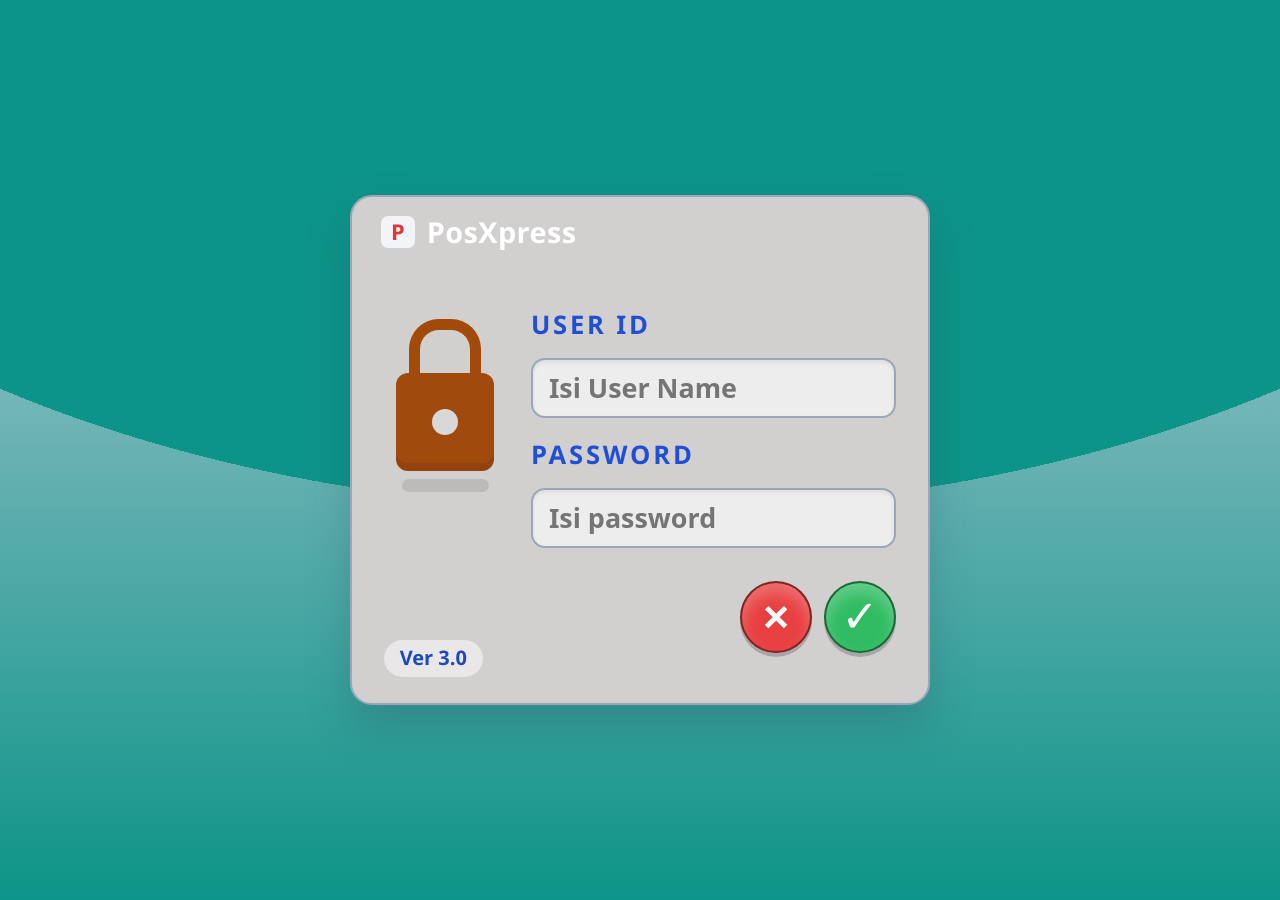
Test: App › menu lain bisa diklik saat awal loading dashboard
Type "admin" into the field labelled "USER ID" at {"x": 713, "y": 388}, box [531, 358, 896, 418]
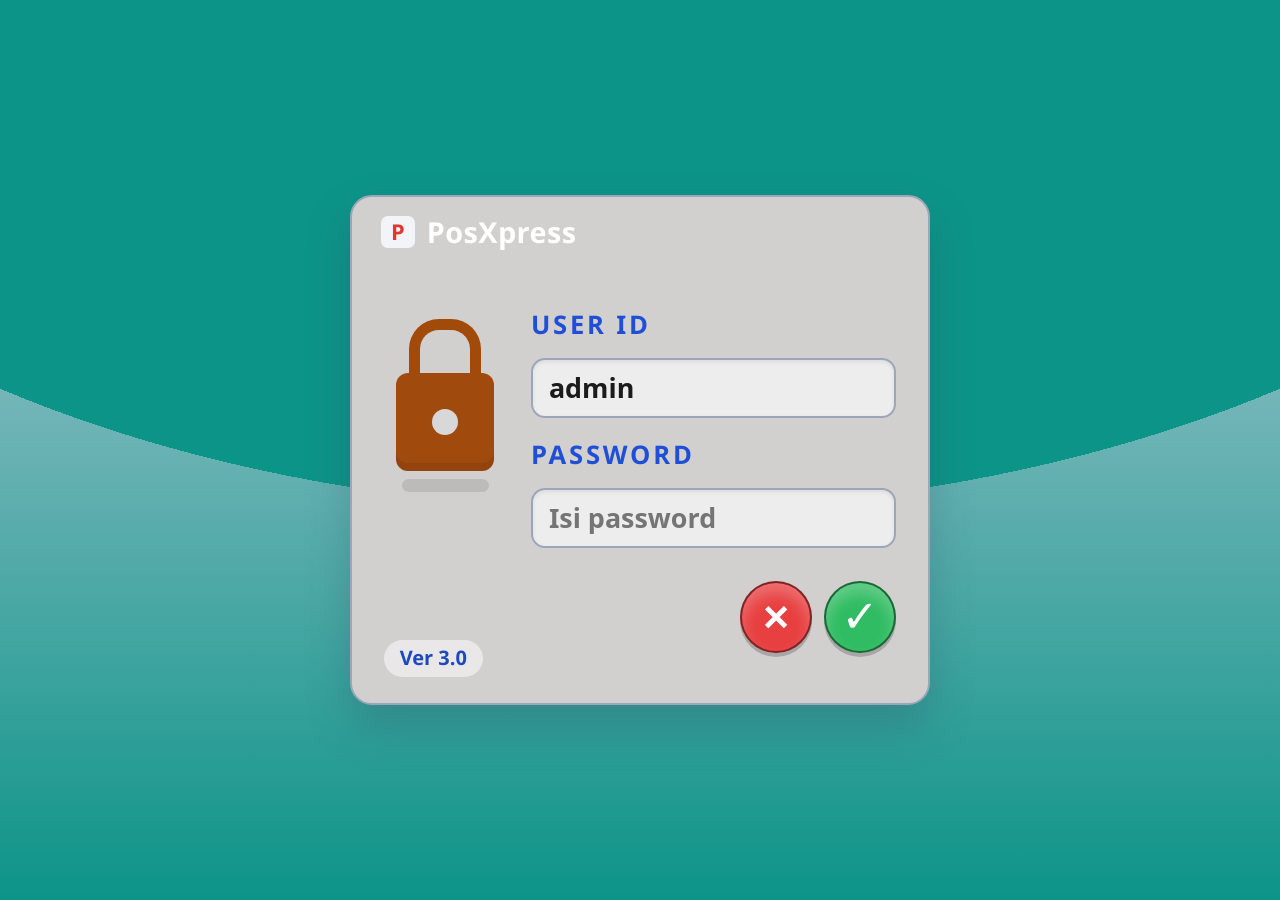
Type "123456" into the password field labelled "PASSWORD" at {"x": 713, "y": 518}, box [531, 488, 896, 548]
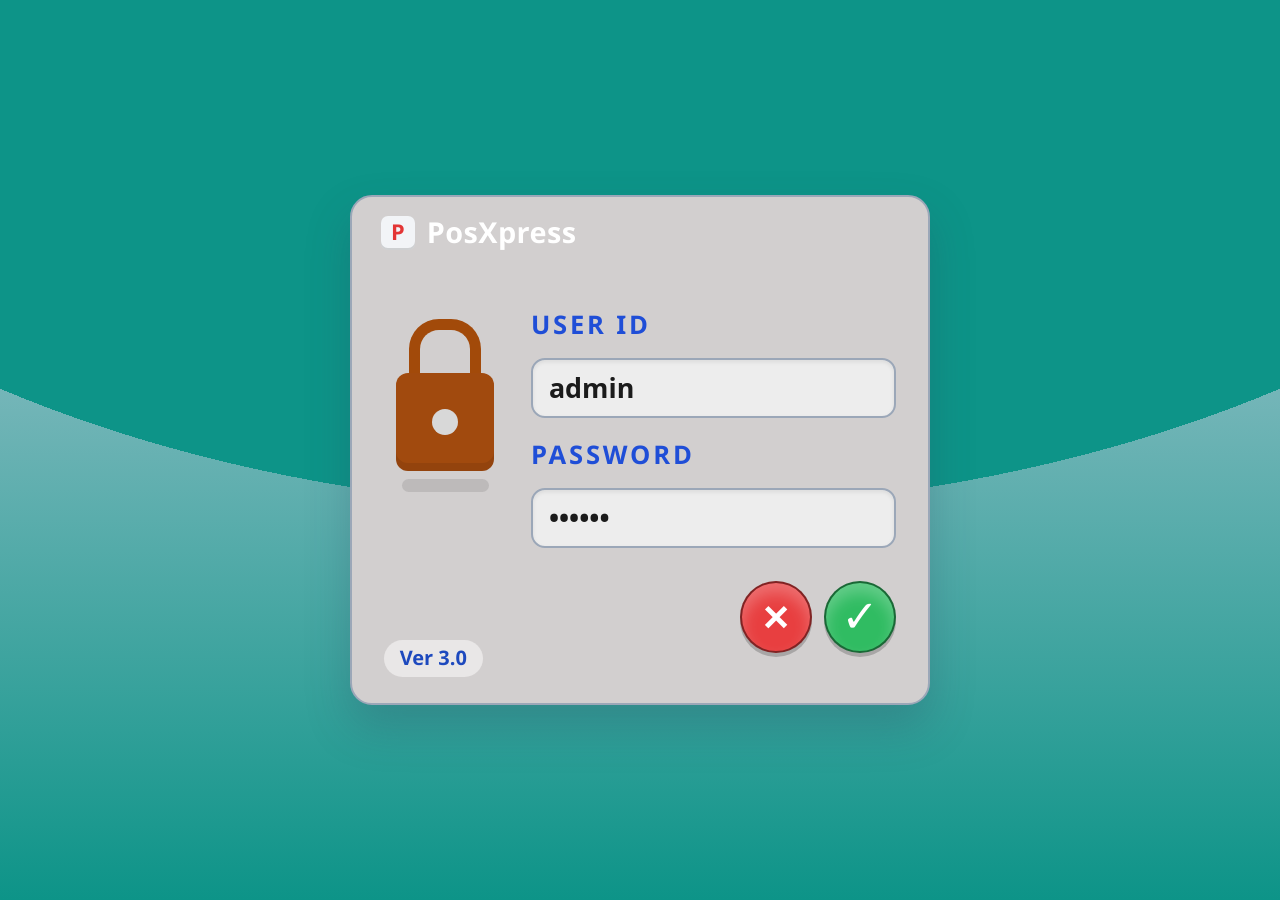
Click the button named "Masuk" at {"x": 860, "y": 617}, box [824, 581, 896, 653]
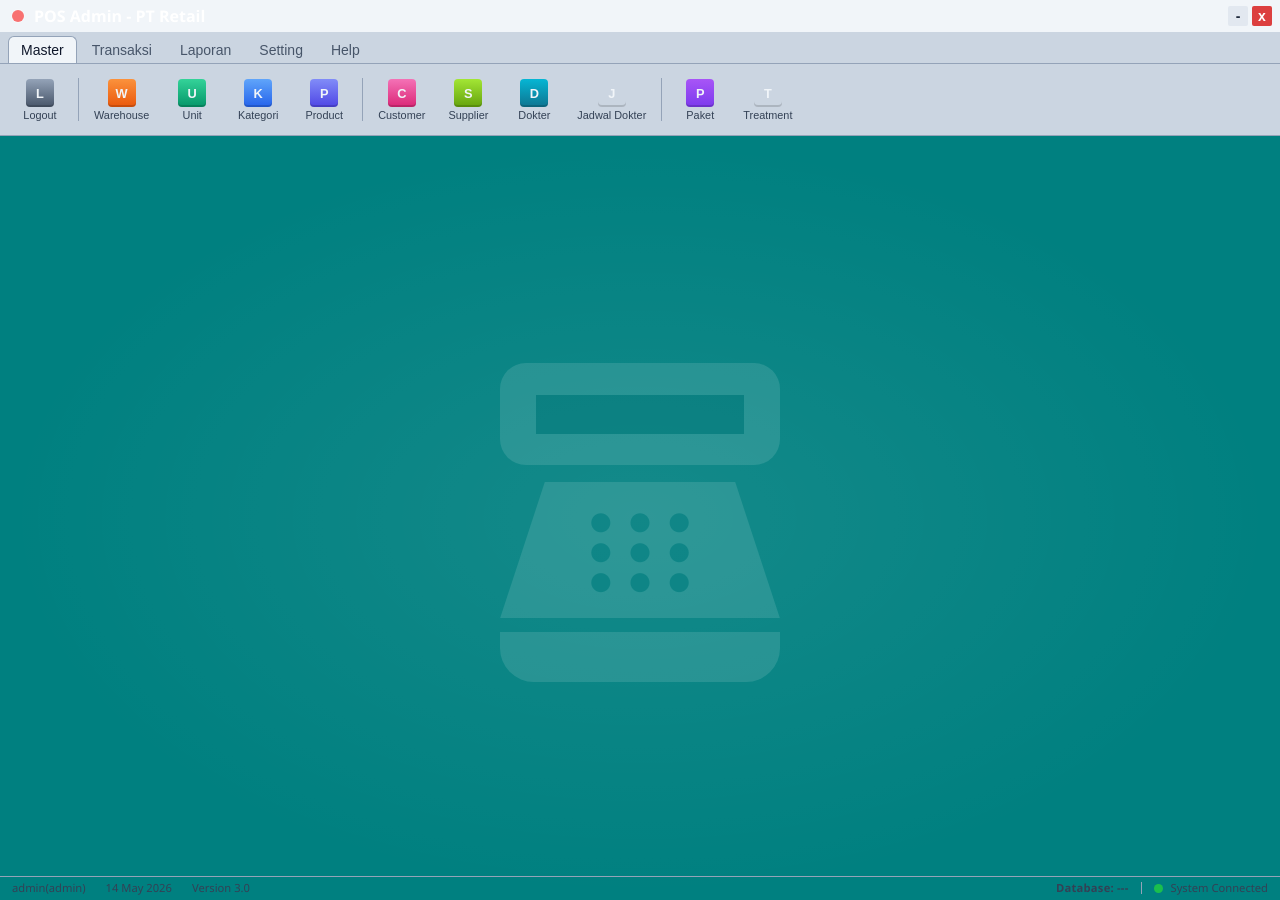
Now the element named "POS Admin Menu Dashboard" is shown
Click the button "Transaksi" at {"x": 122, "y": 50}, box [79, 36, 165, 63]
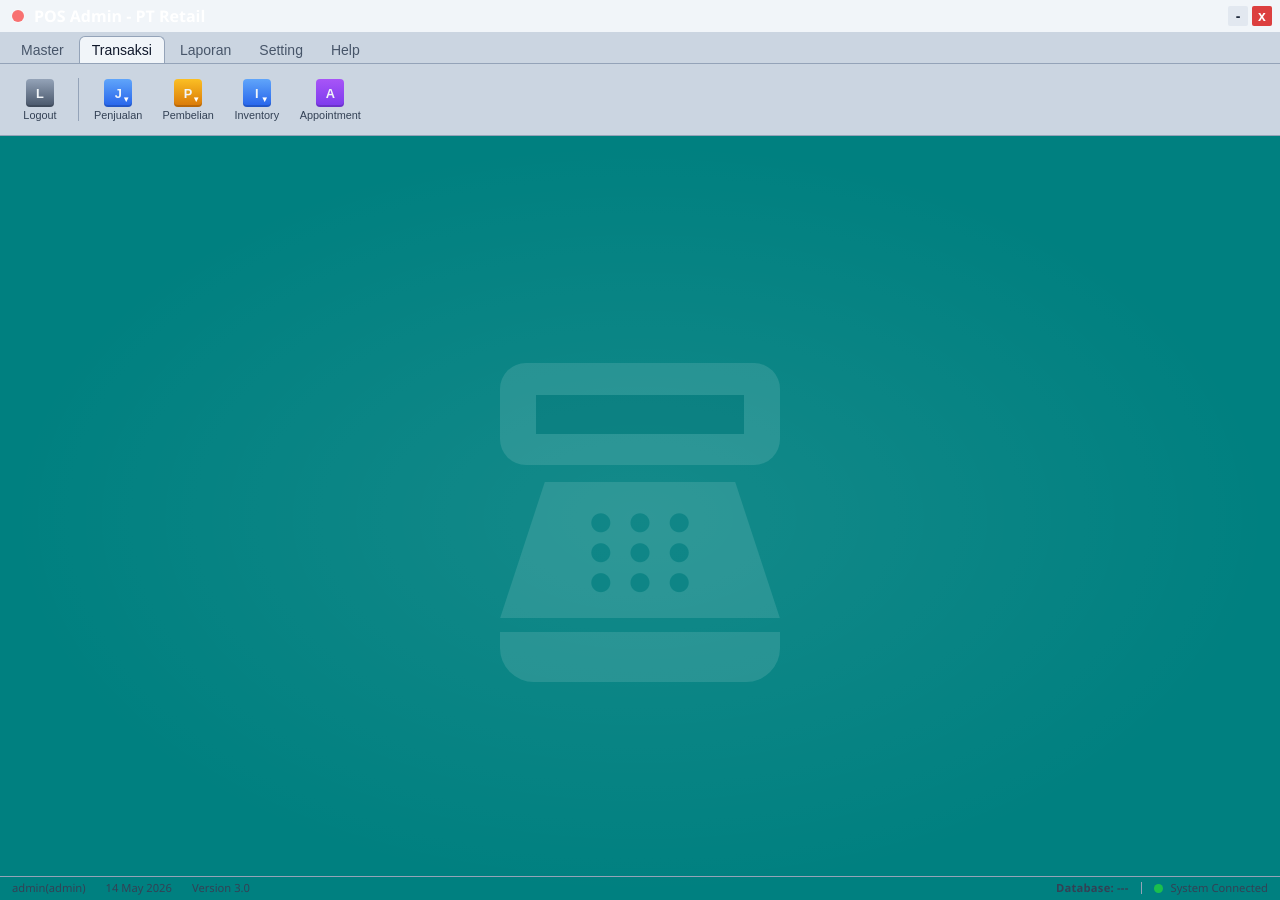
Now the button "P ▼ Pembelian" is shown, box [153, 68, 223, 132]
